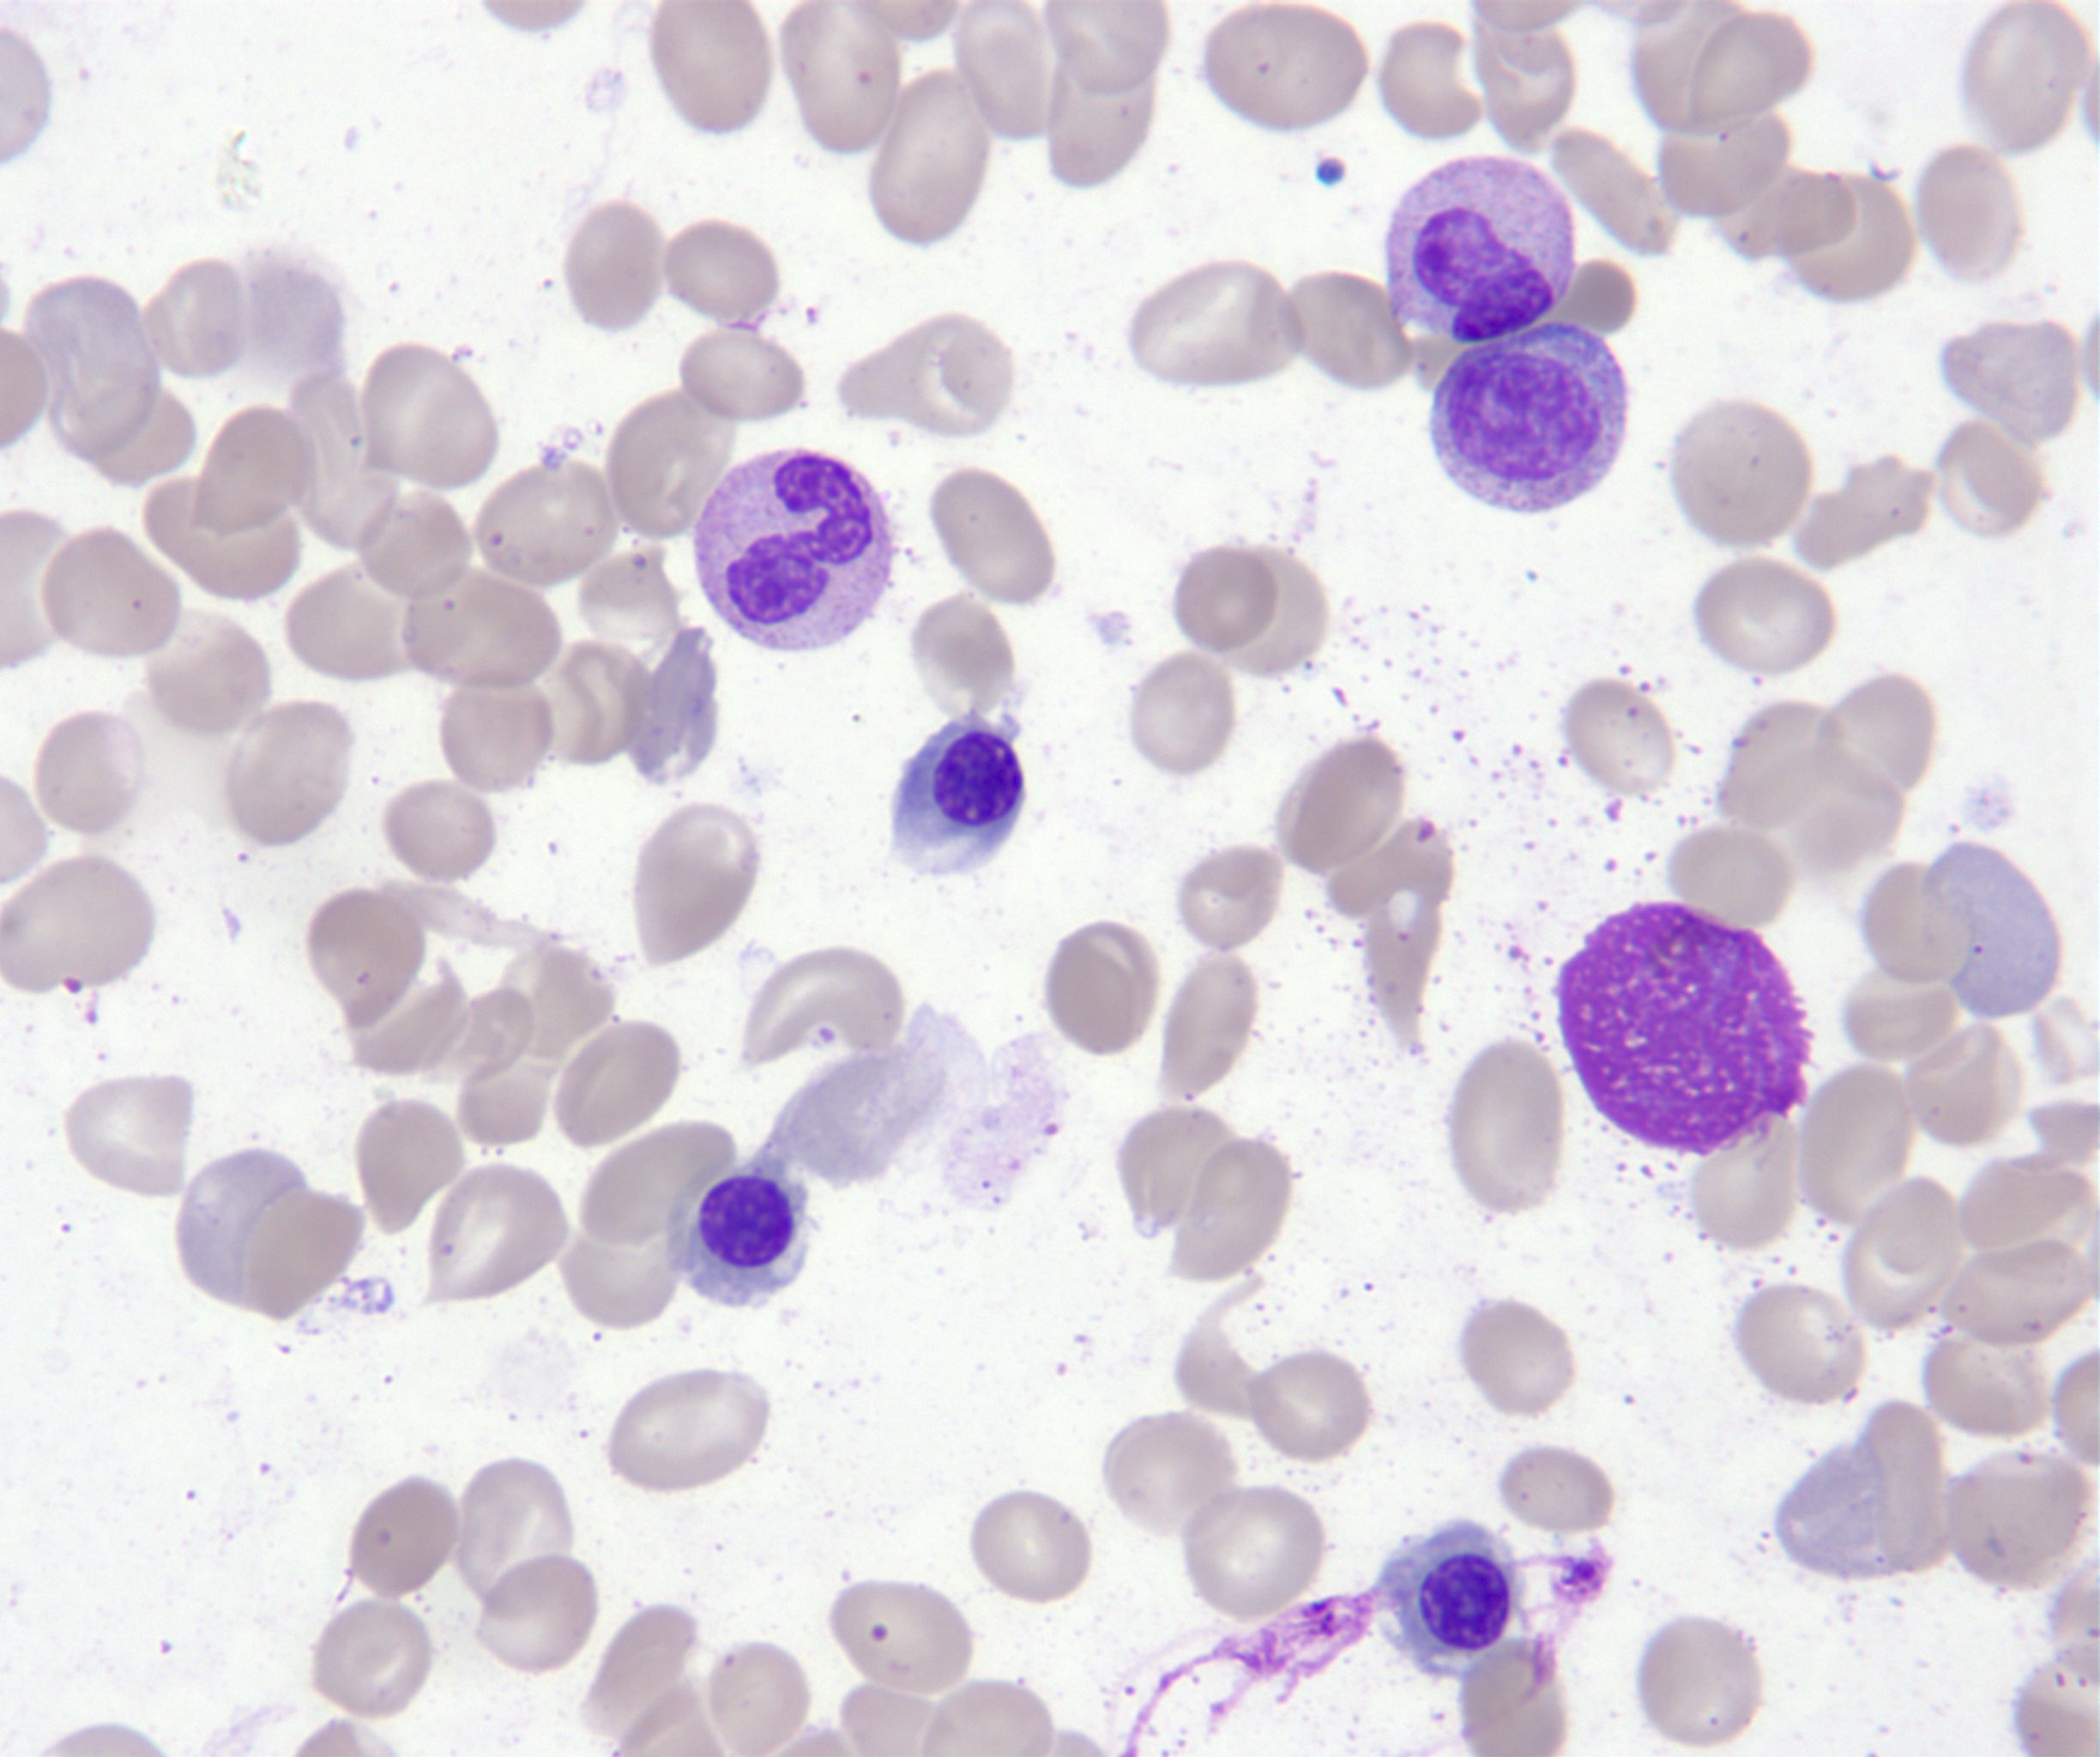24: (1374, 1521, 1523, 1680), (666, 1152, 809, 1307), (891, 719, 1026, 876)
3: (1428, 321, 1627, 513)
4: (1388, 155, 1575, 342)
5: (694, 447, 893, 653)
x: (1559, 902, 1812, 1157)
